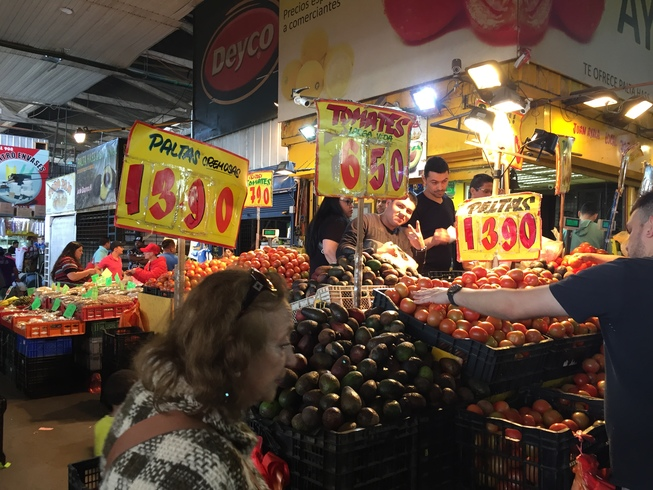precio: (118, 119, 243, 253), (317, 99, 411, 206), (453, 197, 554, 267), (236, 165, 279, 216), (82, 286, 100, 306), (27, 296, 42, 316), (62, 303, 79, 320), (126, 279, 140, 297), (50, 298, 65, 313), (24, 285, 38, 298), (113, 270, 121, 288), (91, 274, 100, 289), (61, 282, 70, 295), (105, 276, 113, 290), (54, 281, 61, 296)
